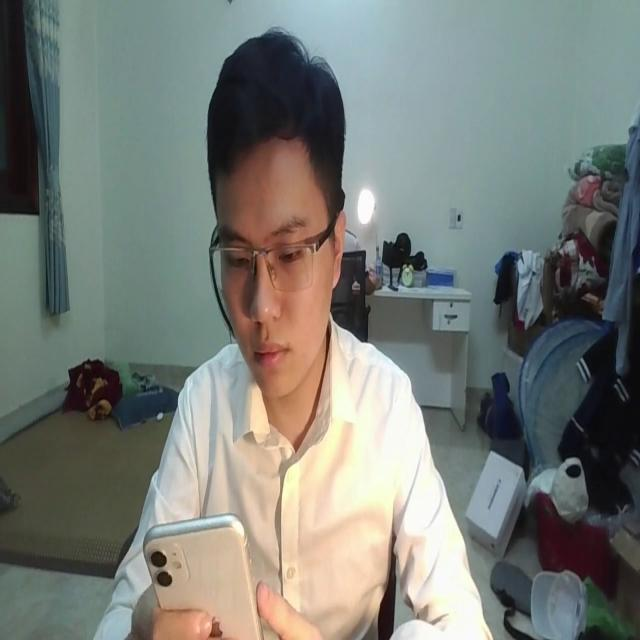phone: (141, 501, 258, 640)
student: (91, 26, 494, 640)
